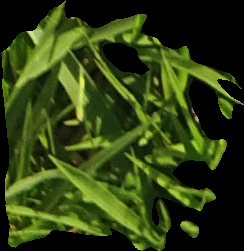grass: (1, 1, 242, 250)
